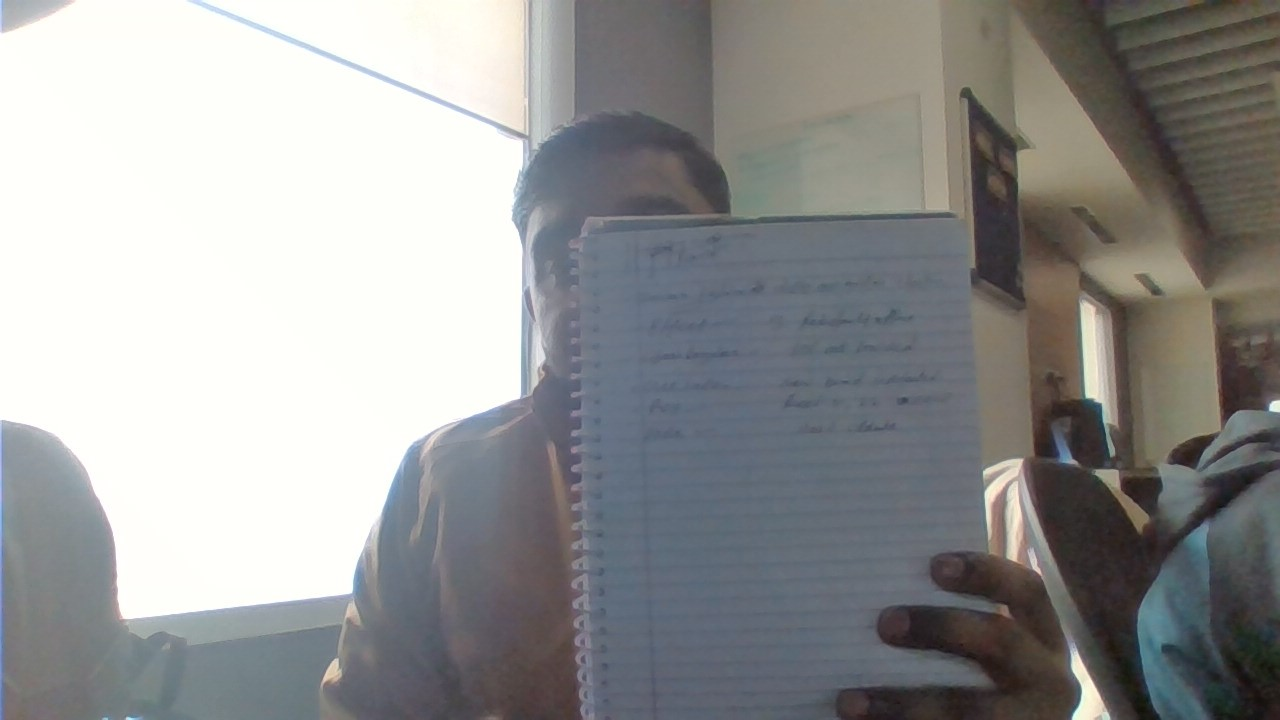notebook: (567, 212, 1013, 720)
